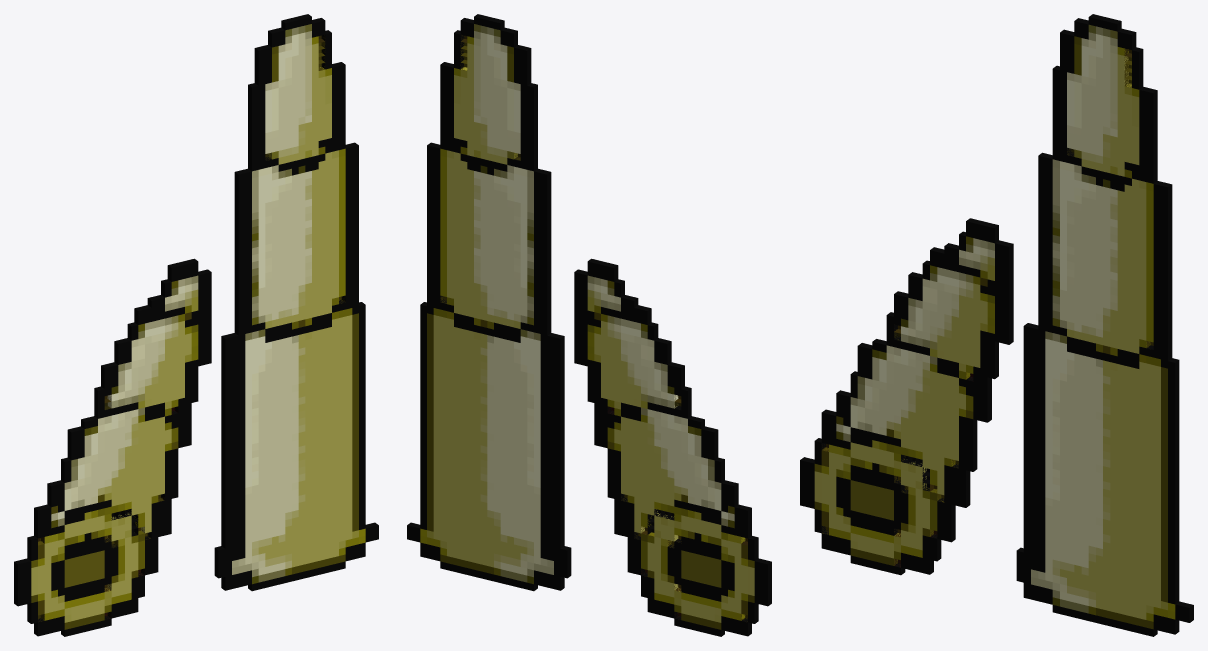
File: ArmourPiercing.fbx
3 renders of one model, left to right at view 1: azimuth 30°, elevation 25°; view 2: azimuth 150°, elevation 25°; view 3: azimuth 330°, elevation 25°, orthographic. The views are drawn at different scales.
Visible parts, largest first — view 1: armourpiercing; view 2: armourpiercing; view 3: armourpiercing.
Boxes of the visible parts, <box> form: armourpiercing: <box>14,14,378,636</box>; armourpiercing: <box>407,14,771,636</box>; armourpiercing: <box>800,14,1193,636</box>.
Size of the model in its own units: 5333 by 7900 by 98.75.
